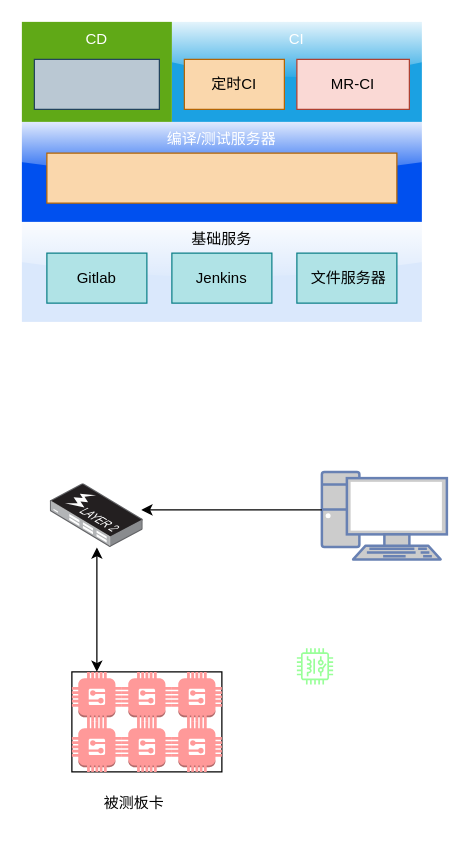
Image size: 469x843. Some labels were removed from this diagram. The shapes that lost their labels are listed below. From the top down, each one's centre as x and y in pixels, then its label:
At (96,83): "Pre-release".
At (221,177): "Jenkins Agent".
At (384,515): "测试PC".
